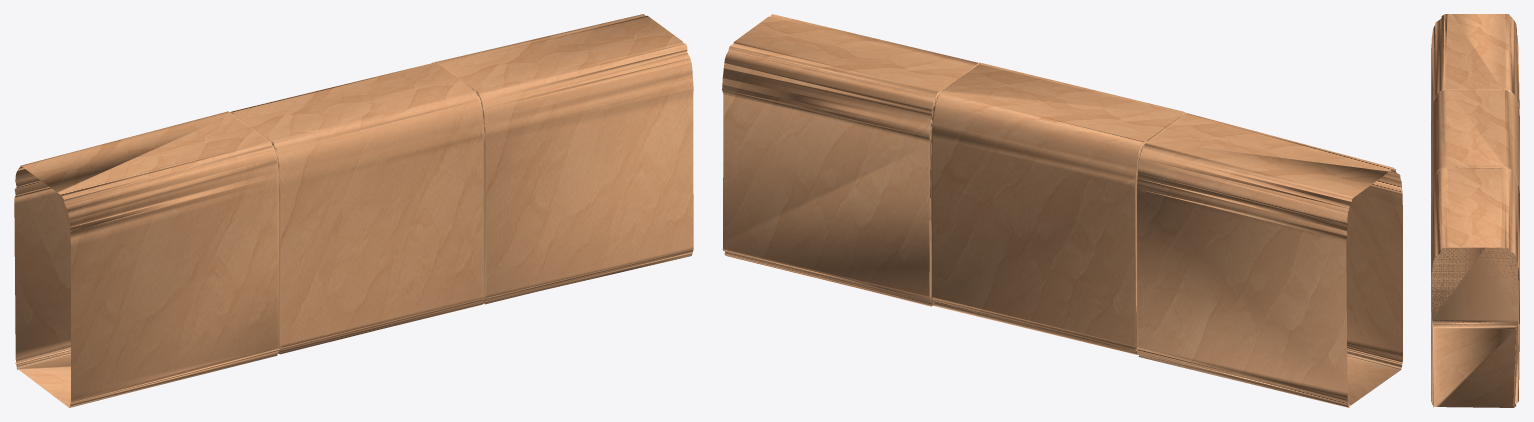
The model's file is kerb.glb.
The picture shows the model from 3 angles, left to right: view 1: azimuth 30°, elevation 25°; view 2: azimuth 150°, elevation 25°; view 3: azimuth 270°, elevation 25°; orthographic projection. The views are drawn at different scales.
Visible parts, largest first — view 1: Mesh_0; view 2: Mesh_0; view 3: Mesh_0.
Boxes of the visible parts, bbox=[...] form: Mesh_0: bbox=[14, 14, 693, 407]; Mesh_0: bbox=[722, 14, 1402, 407]; Mesh_0: bbox=[1431, 14, 1519, 407].
Bounding box in the file's own units: 2 × 0.6498 × 0.32.
Materials: 1 (1 with a texture image).
